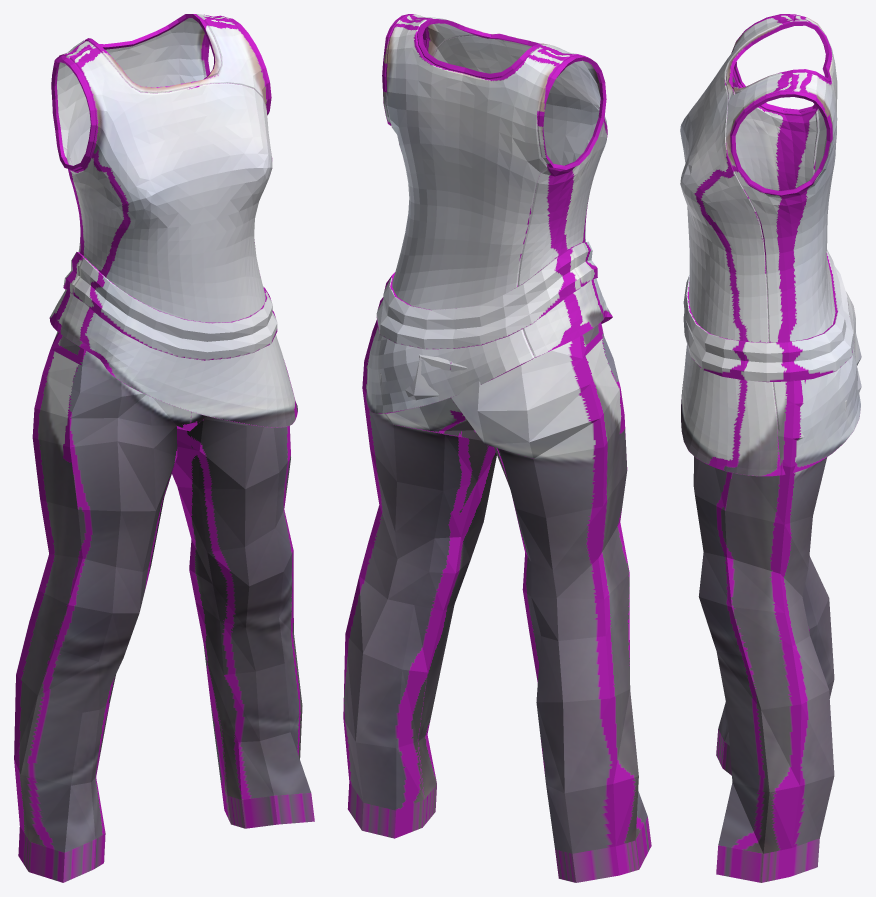
3 renders of one model, left to right at view 1: azimuth 30°, elevation 25°; view 2: azimuth 150°, elevation 25°; view 3: azimuth 270°, elevation 25°, orthographic. The views are drawn at different scales.
Bounding box in the file's own units: 0.2905 × 0.7907 × 0.1669.
Materials: 1 (1 with a texture image).
